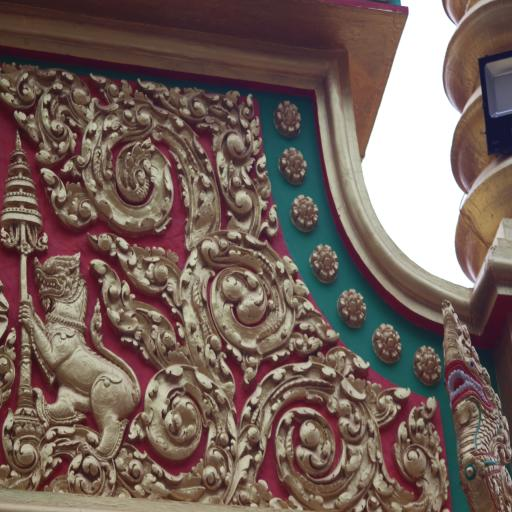hoa: (290, 189, 320, 237), (306, 246, 341, 284), (280, 143, 308, 186), (377, 320, 399, 364), (416, 342, 439, 384), (276, 99, 301, 137), (343, 285, 365, 327)
la: (21, 68, 213, 237), (236, 362, 373, 502), (185, 235, 292, 362), (87, 232, 185, 360), (145, 367, 237, 498), (0, 440, 153, 509), (376, 376, 444, 512), (212, 80, 262, 240)
ran: (442, 306, 512, 511)
